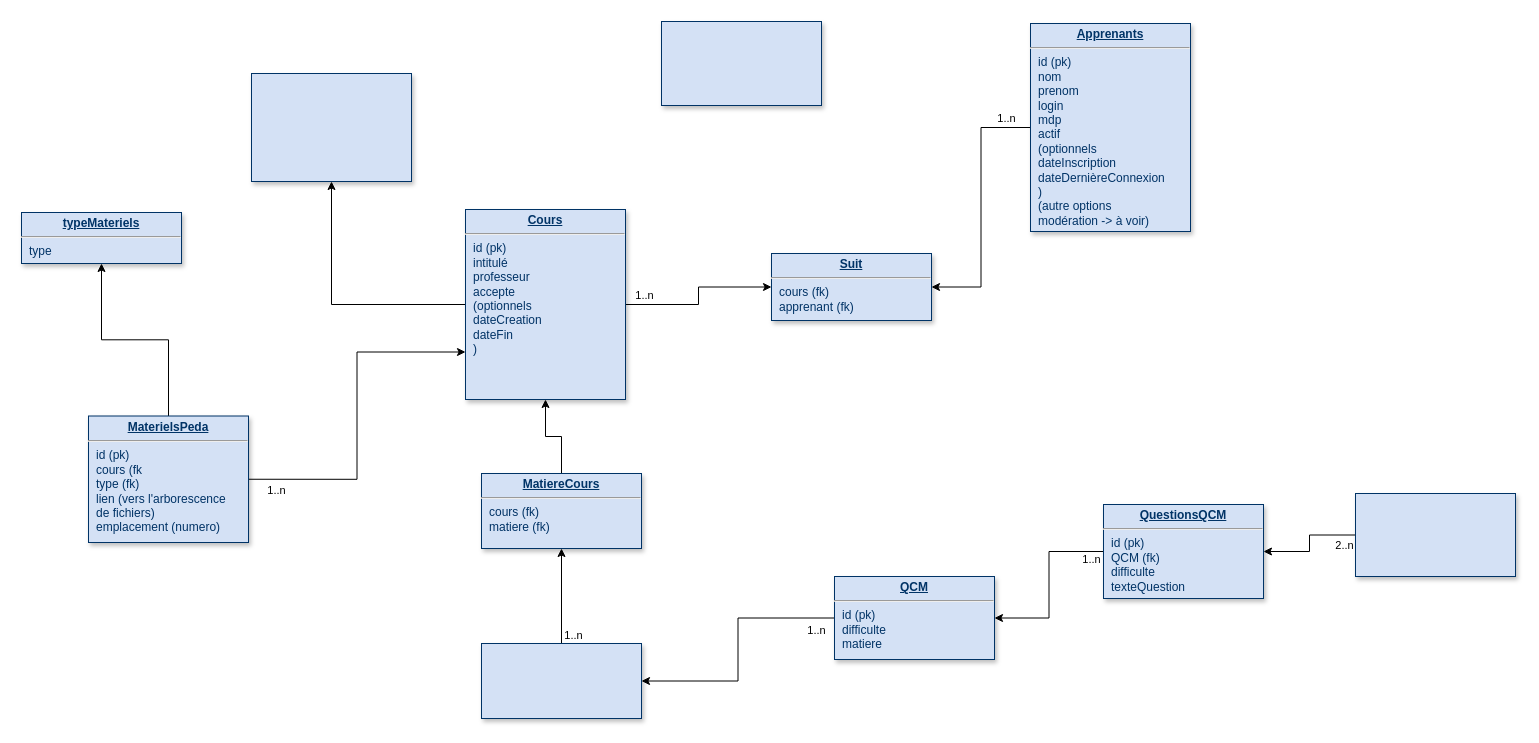
Image size: 1539x743. Some labels were removed from this diagram. The shapes that lost their labels are listed below. From the top down, each one's centre as x and y in pixels, then its label:
At (x=742, y=64): "Admin id (pk) login mdp".
At (x=332, y=128): "Professeur id (pk) nom prenom login mdp".
At (x=1436, y=536): "ReponsesQCM question (fk) texteReponse estJuste".
At (x=562, y=682): "Matiere intitule".
